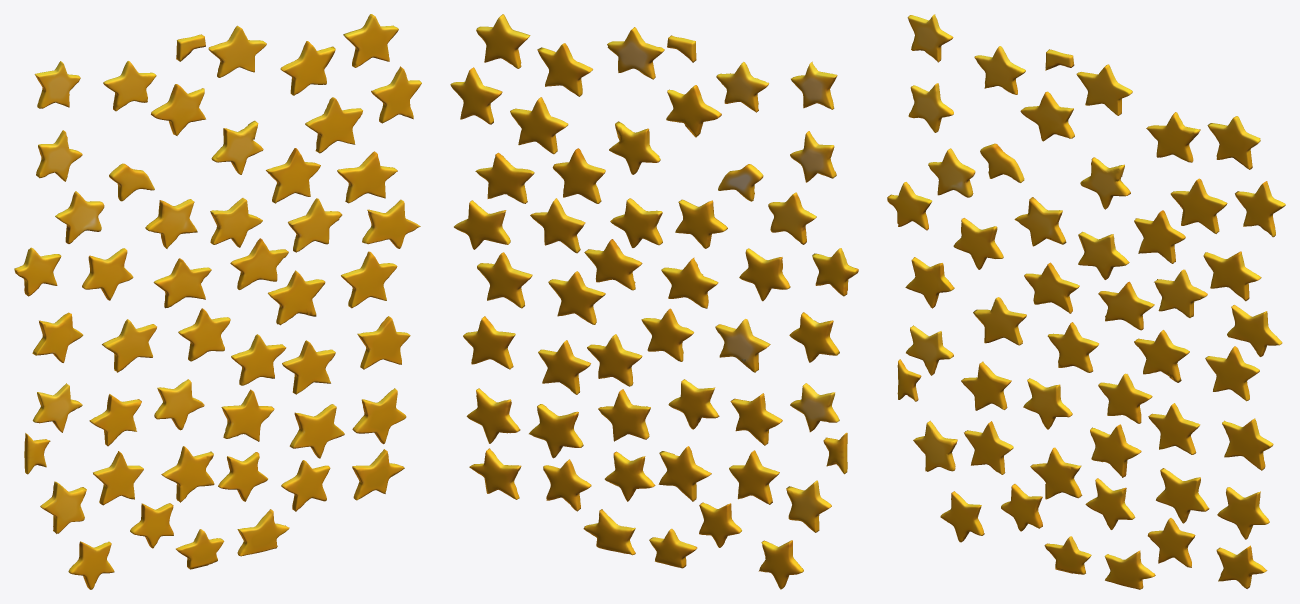
The model's file is 星棚顶 (2).fbx.
3 renders of one model, left to right at view 1: azimuth 30°, elevation 25°; view 2: azimuth 150°, elevation 25°; view 3: azimuth 330°, elevation 25°, orthographic. The views are drawn at different scales.
Parts seen in each view (by area): view 1: root.0, root.1, root.4, root.5, root.2, root.6, root.10, root.14, root.3, root.26, root.7, root.20 (+34 smaller); view 2: root.0, root.1, root.5, root.3, root.4, root.2, root.6, root.14, root.10, root.7, root.26, root.20 (+34 smaller); view 3: root.0, root.1, root.5, root.2, root.4, root.6, root.10, root.7, root.3, root.26, root.14, root.25 (+34 smaller).
Boxes of the visible parts, box(x1,y1,x2,y2) form: root.0: box(176, 509, 289, 569); root.1: box(305, 97, 362, 153); root.4: box(268, 270, 325, 325); root.5: box(341, 251, 397, 308); root.2: box(337, 151, 397, 203); root.6: box(289, 404, 344, 458); root.10: box(343, 14, 398, 67); root.14: box(280, 41, 335, 95); root.3: box(266, 148, 320, 203); root.26: box(208, 25, 266, 77); root.7: box(357, 316, 410, 369); root.20: box(230, 238, 288, 289); root.0: box(583, 509, 697, 568); root.1: box(510, 97, 568, 154); root.5: box(477, 252, 532, 308); root.3: box(552, 148, 605, 203); root.4: box(548, 271, 605, 324); root.2: box(475, 152, 534, 203); root.6: box(529, 404, 583, 458); root.14: box(537, 43, 592, 96); root.10: box(476, 14, 530, 68); root.7: box(463, 316, 515, 369); root.26: box(607, 27, 664, 79); root.20: box(584, 239, 642, 290); root.0: box(1044, 536, 1155, 589); root.1: box(1170, 178, 1227, 233); root.5: box(1205, 346, 1259, 401); root.2: box(1203, 251, 1261, 301); root.4: box(1134, 330, 1189, 382); root.6: box(1156, 468, 1209, 523); root.10: box(1207, 116, 1260, 169); root.7: box(1222, 418, 1273, 470); root.3: box(1134, 210, 1185, 263); root.26: box(1076, 64, 1132, 115); root.14: box(1146, 112, 1200, 162); root.25: box(973, 297, 1026, 345).
Bounding box in the file's own units: 143 × 182 × 3.26.
Materials: 47 (47 with a texture image).
